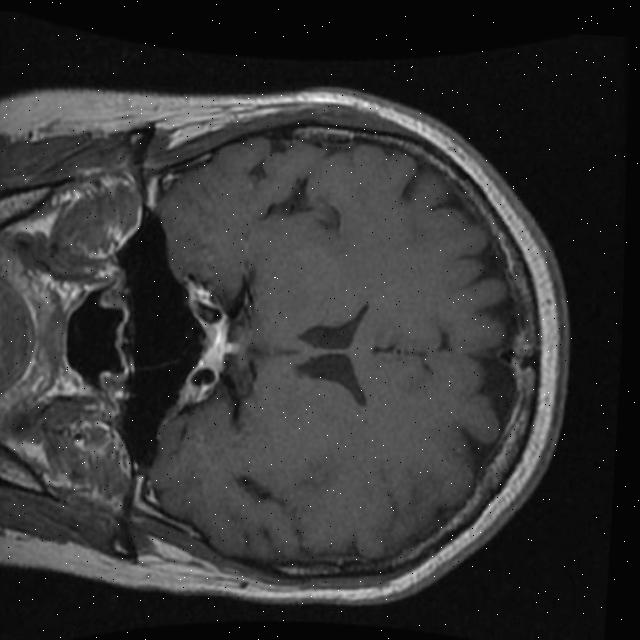Pituitary: (193, 318, 240, 374)
